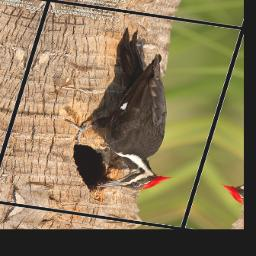Woodpecker: (46, 22, 215, 198)
